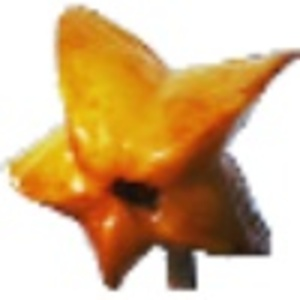carambola: (4, 3, 300, 292)
